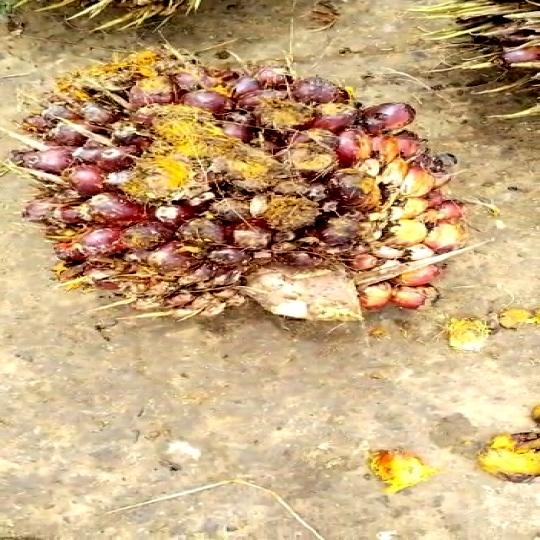masak: (19, 57, 468, 324)
